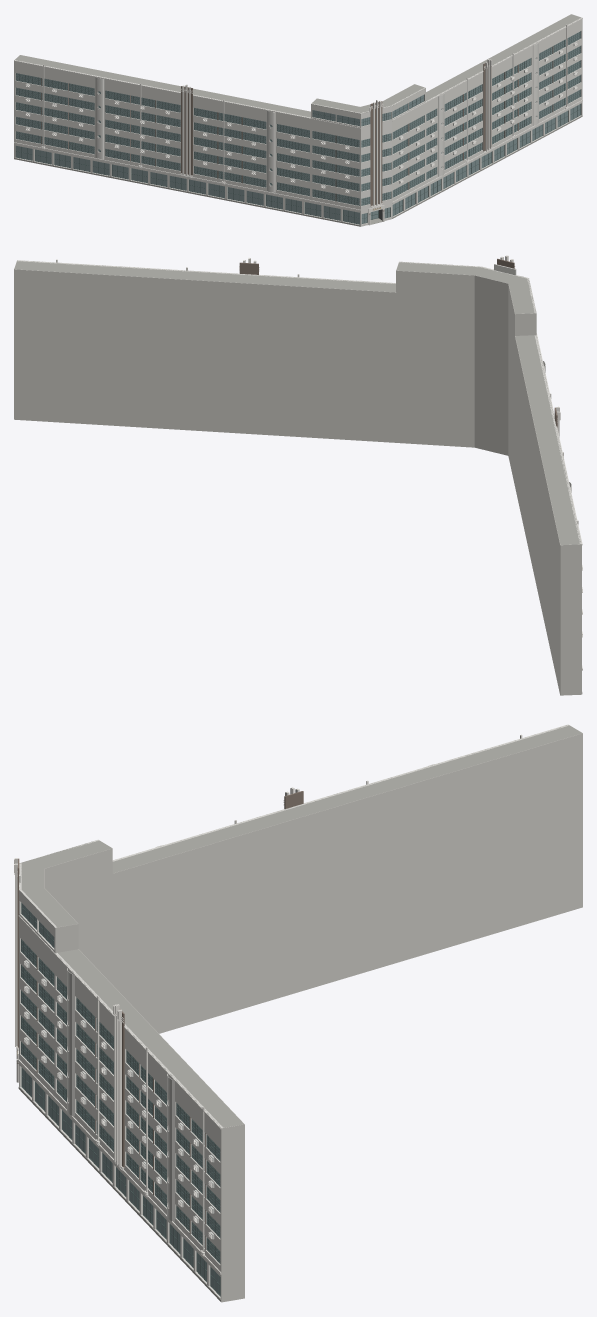
The model's file is xuhui-empire-mansions-street-front-raw.glb.
3 views of the same model, one above another, from view 1: azimuth 30°, elevation 25°; view 2: azimuth 150°, elevation 25°; view 3: azimuth 270°, elevation 25° (orthographic). The views are drawn at different scales.
Visible parts, largest first — view 1: 皇家公寓淮海中路、常熟路转角立面; view 2: 皇家公寓淮海中路、常熟路转角立面; view 3: 皇家公寓淮海中路、常熟路转角立面.
Part boxes in pixels (x1,y1,x2,y2): 皇家公寓淮海中路、常熟路转角立面: [14, 14, 582, 226]; 皇家公寓淮海中路、常熟路转角立面: [14, 255, 582, 695]; 皇家公寓淮海中路、常熟路转角立面: [14, 724, 582, 1302].
Size of the model in its own units: 109 by 27.27 by 64.73.
